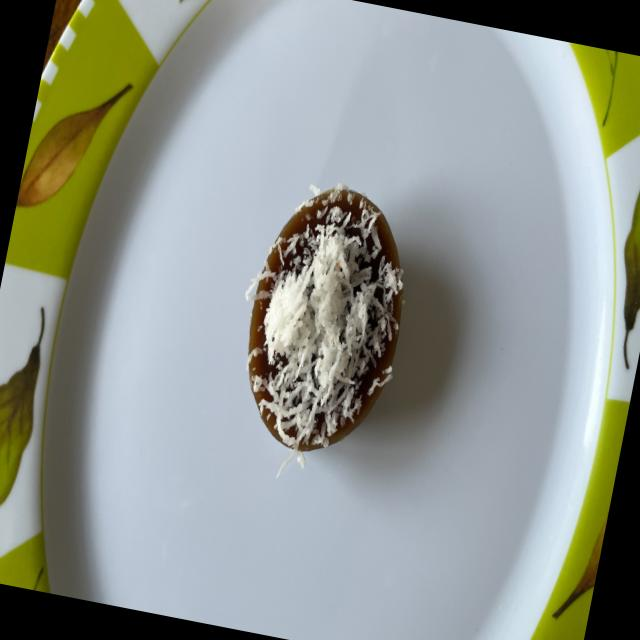Kuih lompang: (247, 183, 403, 459)
